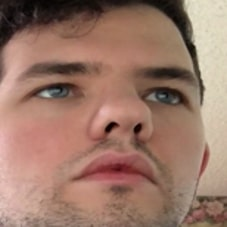awake: (14, 48, 202, 227)
